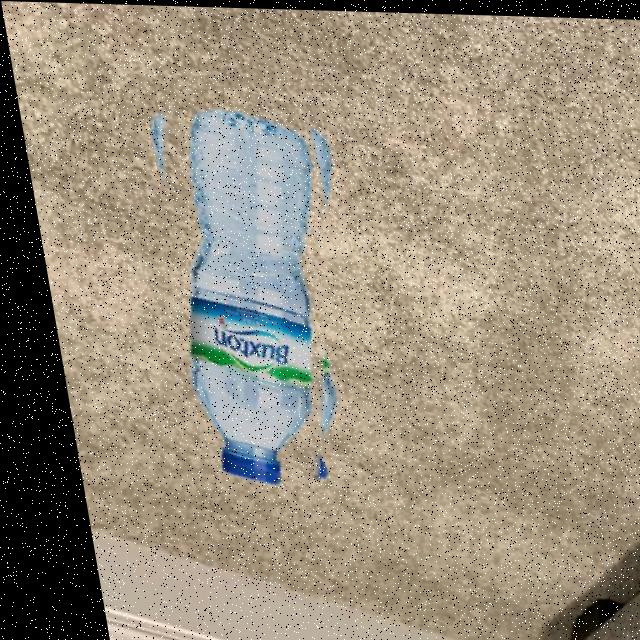plasticbottle: (107, 71, 379, 504)
plasticbottlecap: (219, 426, 330, 506)
